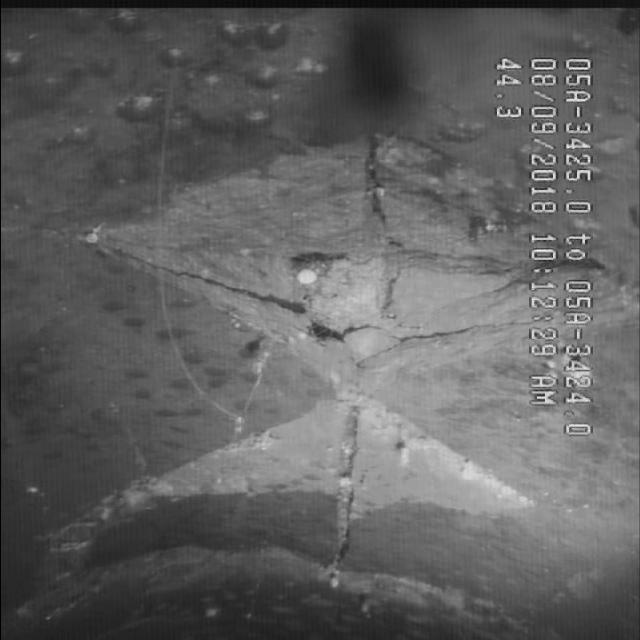Fracture: (172, 178, 472, 512)
